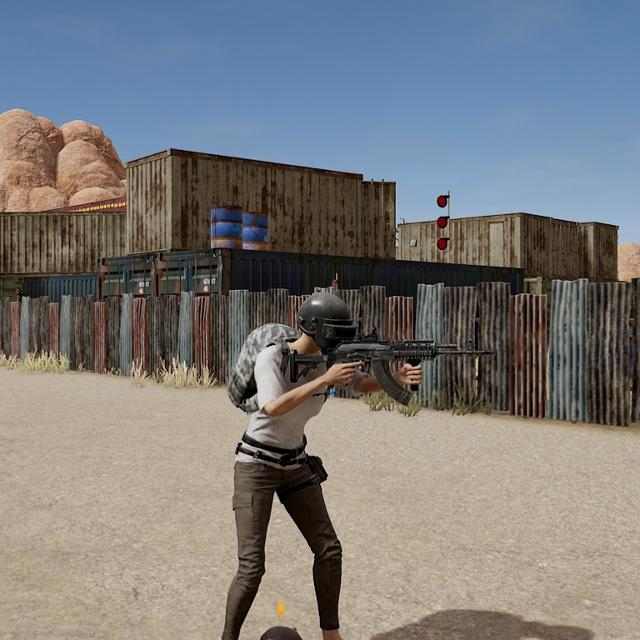head: (288, 284, 357, 365)
people: (208, 279, 401, 640)
